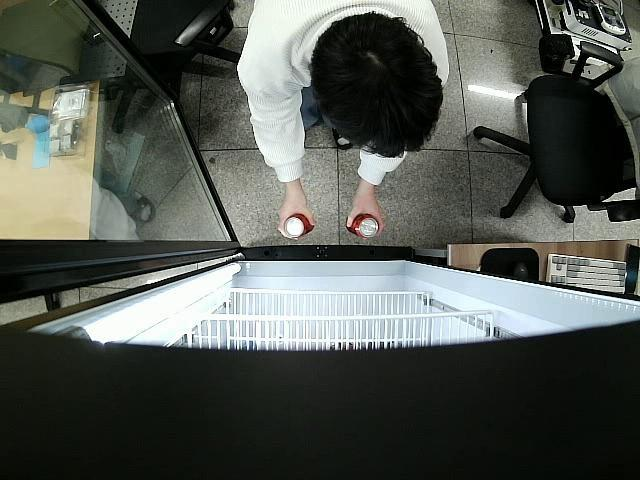11_cocaColaZero: (342, 214, 381, 238), (284, 214, 312, 238)
